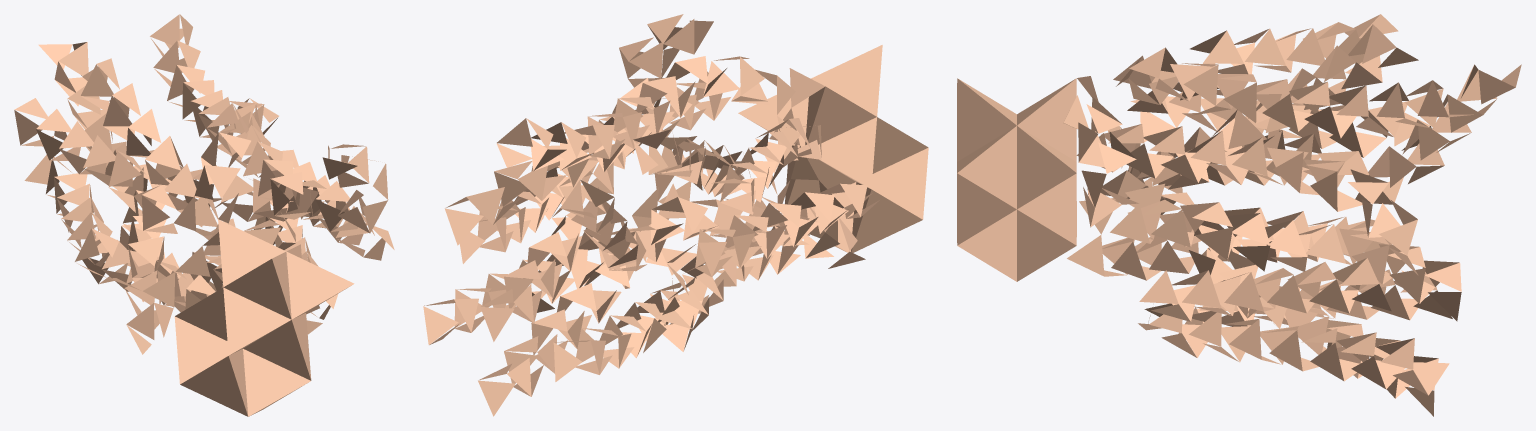
File: GLUT_FacesIsolated.fbx
3 views of the same model, side by side, from view 1: azimuth 30°, elevation 25°; view 2: azimuth 150°, elevation 25°; view 3: azimuth 270°, elevation 25° (orthographic). The views are drawn at different scales.
Visible parts, largest first — view 1: CON_GLUT_RIG_Main_100819_v1.399, CON_GLUT_RIG_Main_100819_v1.377, CON_GLUT_RIG_Main_100819_v1.401, CON_GLUT_RIG_Main_100819_v1.421, CON_GLUT_RIG_Main_100819_v1.381, CON_GLUT_RIG_Main_100819_v1.372, CON_GLUT_RIG_Main_100819_v1.397, CON_GLUT_RIG_Main_100819_v1.424, CON_GLUT_RIG_Main_100819_v1.405, CON_GLUT_RIG_Main_100819_v1.059, CON_GLUT_RIG_Main_100819_v1.008, CON_GLUT_RIG_Main_100819_v1.214 (+48 smaller); view 2: CON_GLUT_RIG_Main_100819_v1.422, CON_GLUT_RIG_Main_100819_v1.420, CON_GLUT_RIG_Main_100819_v1.410, CON_GLUT_RIG_Main_100819_v1.423, CON_GLUT_RIG_Main_100819_v1.419, CON_GLUT_RIG_Main_100819_v1.408, CON_GLUT_RIG_Main_100819_v1.395, CON_GLUT_RIG_Main_100819_v1.409, CON_GLUT_RIG_Main_100819_v1.249, CON_GLUT_RIG_Main_100819_v1.219, CON_GLUT_RIG_Main_100819_v1.215, CON_GLUT_RIG_Main_100819_v1.146 (+23 smaller); view 3: CON_GLUT_RIG_Main_100819_v1.402, CON_GLUT_RIG_Main_100819_v1.391, CON_GLUT_RIG_Main_100819_v1.386, CON_GLUT_RIG_Main_100819_v1.217, CON_GLUT_RIG_Main_100819_v1.394, CON_GLUT_RIG_Main_100819_v1.392, CON_GLUT_RIG_Main_100819_v1.382, CON_GLUT_RIG_Main_100819_v1.398, CON_GLUT_RIG_Main_100819_v1.057, CON_GLUT_RIG_Main_100819_v1.339, CON_GLUT_RIG_Main_100819_v1.357, CON_GLUT_RIG_Main_100819_v1.103 (+57 smaller).
Boxes of the visible parts, <box> form: CON_GLUT_RIG_Main_100819_v1.399: <box>286,251,354,319</box>; CON_GLUT_RIG_Main_100819_v1.377: <box>243,349,310,416</box>; CON_GLUT_RIG_Main_100819_v1.401: <box>223,287,291,355</box>; CON_GLUT_RIG_Main_100819_v1.421: <box>218,219,285,286</box>; CON_GLUT_RIG_Main_100819_v1.381: <box>174,316,228,384</box>; CON_GLUT_RIG_Main_100819_v1.372: <box>223,259,291,319</box>; CON_GLUT_RIG_Main_100819_v1.397: <box>243,320,311,380</box>; CON_GLUT_RIG_Main_100819_v1.424: <box>180,356,247,416</box>; CON_GLUT_RIG_Main_100819_v1.405: <box>175,288,227,340</box>; CON_GLUT_RIG_Main_100819_v1.059: <box>204,165,240,198</box>; CON_GLUT_RIG_Main_100819_v1.008: <box>164,164,199,198</box>; CON_GLUT_RIG_Main_100819_v1.214: <box>143,272,175,307</box>; CON_GLUT_RIG_Main_100819_v1.422: <box>811,45,882,116</box>; CON_GLUT_RIG_Main_100819_v1.420: <box>818,117,876,188</box>; CON_GLUT_RIG_Main_100819_v1.410: <box>871,147,928,219</box>; CON_GLUT_RIG_Main_100819_v1.423: <box>851,189,922,252</box>; CON_GLUT_RIG_Main_100819_v1.419: <box>807,86,876,144</box>; CON_GLUT_RIG_Main_100819_v1.408: <box>872,117,928,173</box>; CON_GLUT_RIG_Main_100819_v1.395: <box>738,95,808,147</box>; CON_GLUT_RIG_Main_100819_v1.409: <box>787,158,855,204</box>; CON_GLUT_RIG_Main_100819_v1.249: <box>444,208,483,245</box>; CON_GLUT_RIG_Main_100819_v1.219: <box>466,187,504,224</box>; CON_GLUT_RIG_Main_100819_v1.215: <box>789,68,824,107</box>; CON_GLUT_RIG_Main_100819_v1.146: <box>478,380,515,416</box>; CON_GLUT_RIG_Main_100819_v1.402: <box>957,78,1016,161</box>; CON_GLUT_RIG_Main_100819_v1.391: <box>957,126,1016,209</box>; CON_GLUT_RIG_Main_100819_v1.386: <box>1017,126,1076,209</box>; CON_GLUT_RIG_Main_100819_v1.217: <box>1017,78,1076,161</box>; CON_GLUT_RIG_Main_100819_v1.394: <box>1017,173,1076,245</box>; CON_GLUT_RIG_Main_100819_v1.392: <box>957,173,1016,245</box>; CON_GLUT_RIG_Main_100819_v1.382: <box>1017,209,1076,281</box>; CON_GLUT_RIG_Main_100819_v1.398: <box>957,209,1016,281</box>; CON_GLUT_RIG_Main_100819_v1.057: <box>1067,235,1104,276</box>; CON_GLUT_RIG_Main_100819_v1.339: <box>1306,224,1345,263</box>; CON_GLUT_RIG_Main_100819_v1.357: <box>1110,204,1149,243</box>; CON_GLUT_RIG_Main_100819_v1.103: <box>1245,29,1285,65</box>.
Size of the model in its own units: 959 by 837 by 1336.
